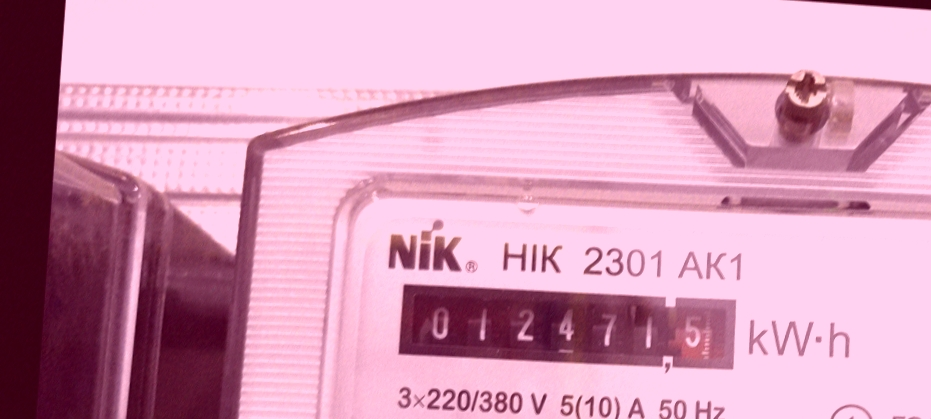0: (426, 302, 452, 340)
1: (475, 305, 489, 341), (641, 312, 654, 349)
2: (514, 305, 537, 342)
4: (555, 304, 576, 342)
5: (680, 310, 704, 349)
7: (594, 308, 618, 348)
screen: (386, 265, 750, 386)
